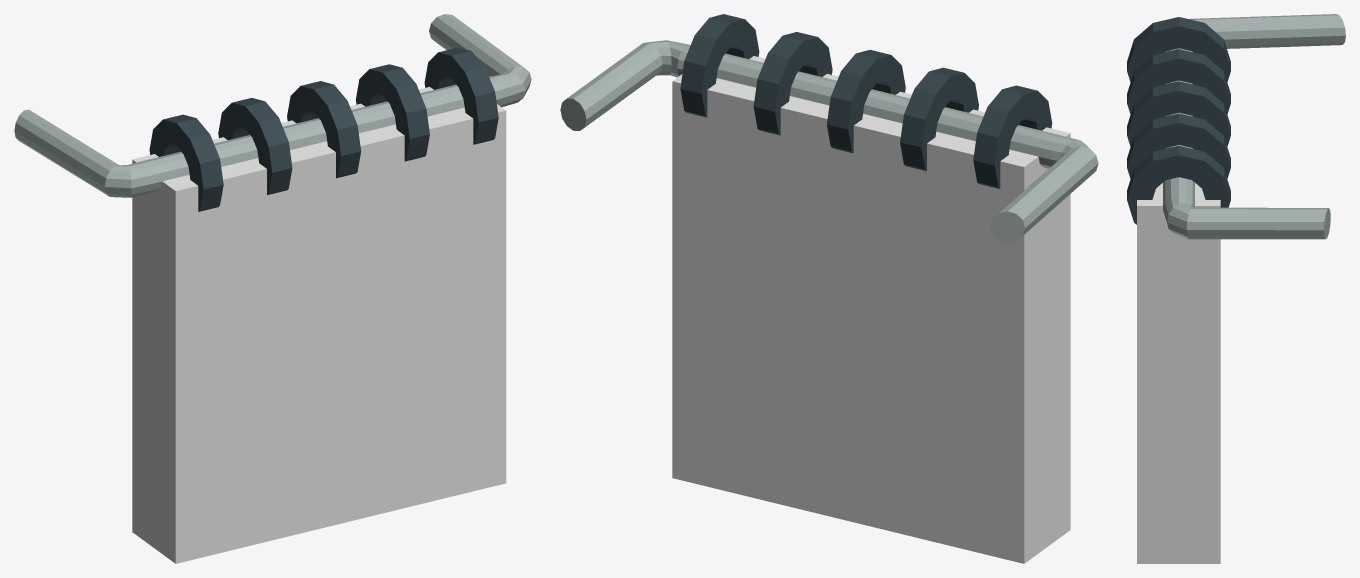
Rendered from calendario.fbx.
The picture shows the model from 3 angles, left to right: view 1: azimuth 30°, elevation 25°; view 2: azimuth 150°, elevation 25°; view 3: azimuth 270°, elevation 25°; orthographic projection. The views are drawn at different scales.
Parts seen in each view (by area): view 1: Circle.015; view 2: Circle.015; view 3: Circle.015.
Boxes of the visible parts, x1=… form: Circle.015: x1=14, y1=14, x2=531, y2=563; Circle.015: x1=560, y1=14, x2=1098, y2=563; Circle.015: x1=1127, y1=14, x2=1345, y2=563.
Size of the model in its own units: 0.4485 by 0.4073 by 0.2007.
